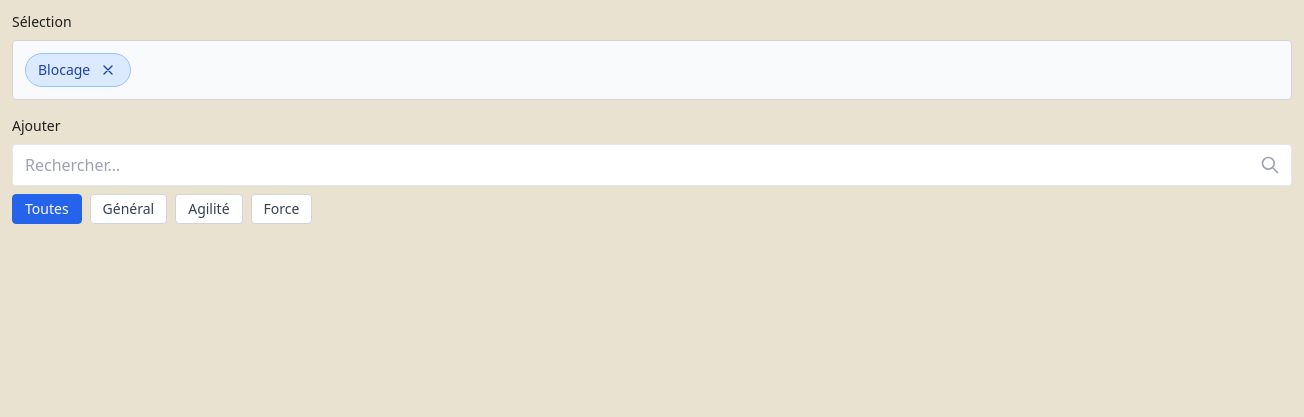
Test case: ChipMultiSelect › n'offre pas en suggestion une valeur déjà sélectionnée
Focus the field with test id "pick-search" at (652, 165), box x1=12 y1=144 x2=1292 y2=186
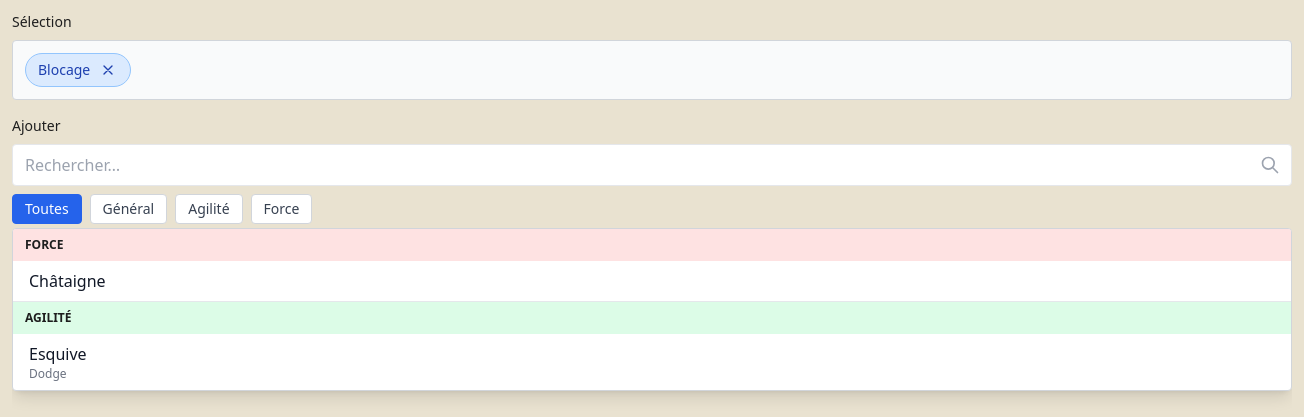
Check: the button with test id "pick-option-dodge" is shown, box x1=13 y1=334 x2=1291 y2=390
